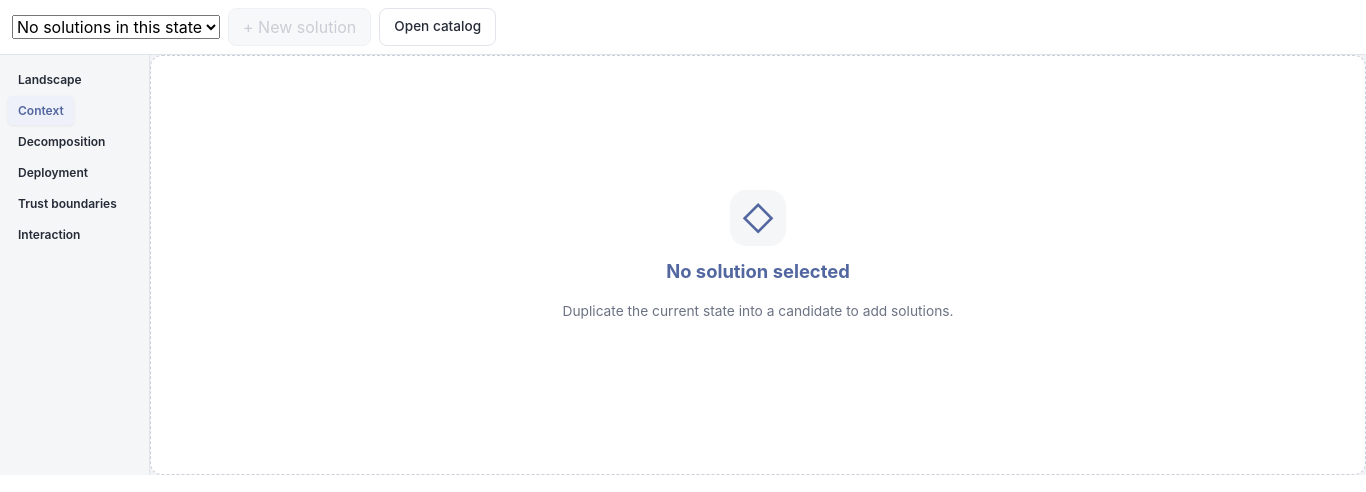
SolutionWorkbench › shows deployed components inside their deployment node
Click the button "Deployment" at (53, 172), box [8,158,98,187]
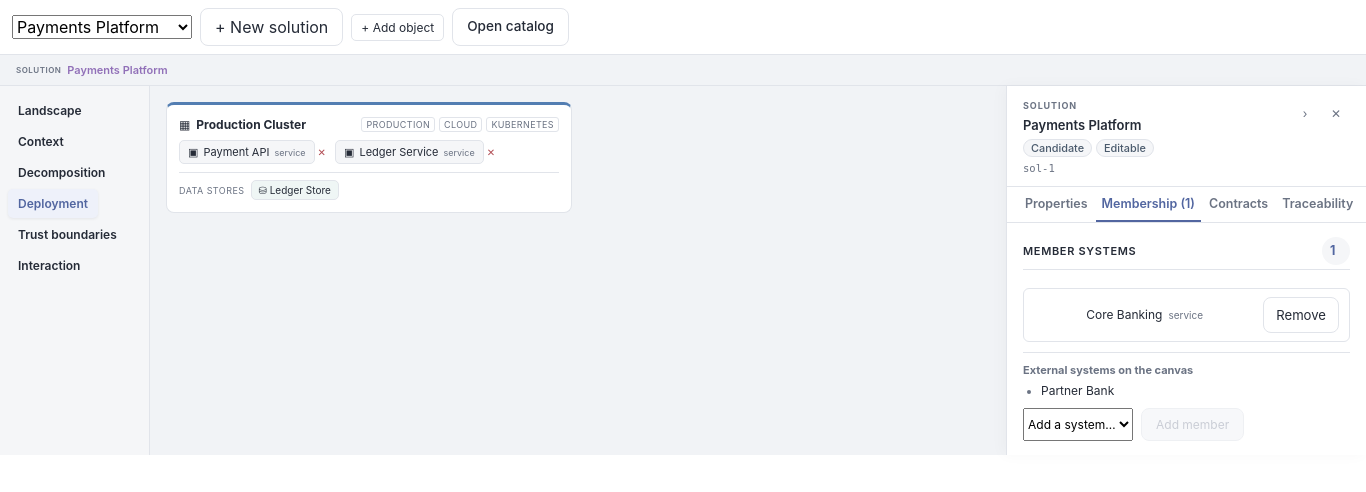
Now the button "▣ Payment API service" is shown, box [179,140,315,164]
Now the button "▣ Ledger Service service" is shown, box [335,140,484,164]
Now the text "production" is shown, box [361,117,435,132]
